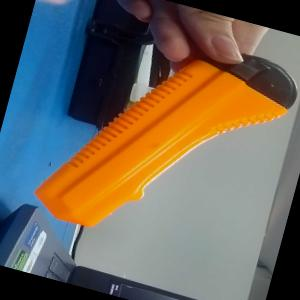estilete: (28, 8, 300, 270)
